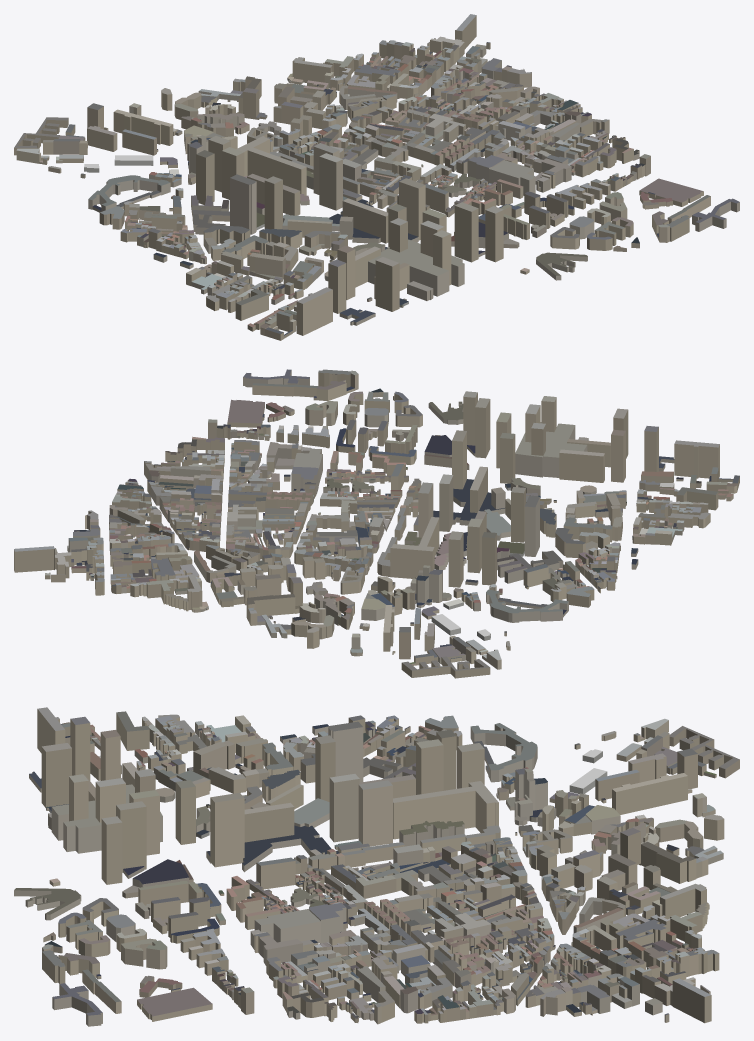
3 views of the same model, one above another, from view 1: azimuth 30°, elevation 25°; view 2: azimuth 150°, elevation 25°; view 3: azimuth 270°, elevation 25° (orthographic). The views are drawn at different scales.
Parts seen in each view (by area): view 1: tuile; view 2: tuile; view 3: tuile.
Part boxes in pixels (<box>): tuile: <box>14,14,739,340</box>; tuile: <box>14,369,739,678</box>; tuile: <box>14,707,739,1026</box>.
Size of the model in its own units: 1064 by 120 by 1084.
